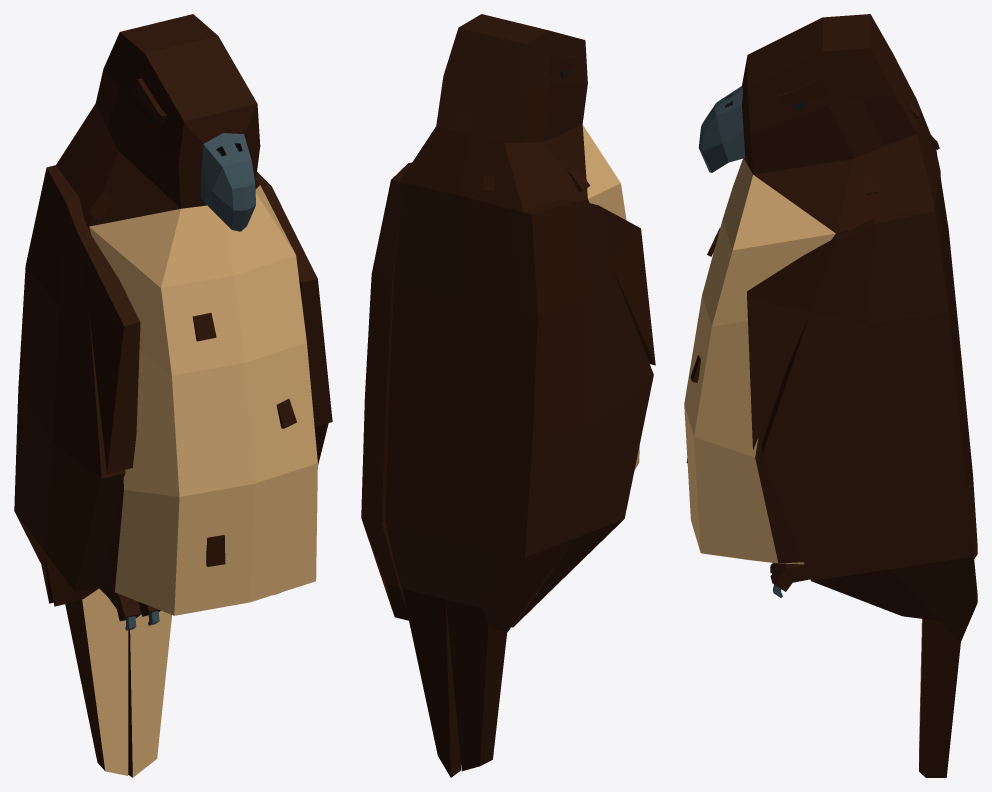
Rendered from Hawk_01.fbx.
3 views of the same model, side by side, from view 1: azimuth 30°, elevation 25°; view 2: azimuth 150°, elevation 25°; view 3: azimuth 270°, elevation 25° (orthographic). The views are drawn at different scales.
Visible parts, largest first — view 1: Hawk_01; view 2: Hawk_01; view 3: Hawk_01.
Boxes of the visible parts, bbox=[...] form: Hawk_01: bbox=[14, 14, 332, 777]; Hawk_01: bbox=[361, 14, 655, 777]; Hawk_01: bbox=[684, 14, 977, 777].
Bounding box in the file's own units: 3.99 × 12.83 × 4.59.
